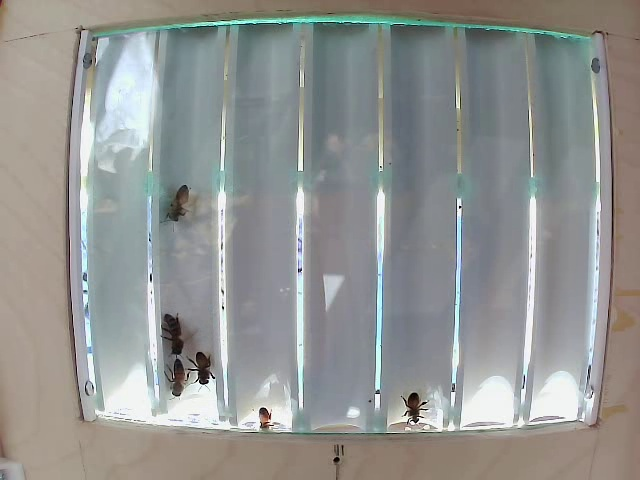bee: (162, 173, 213, 235), (155, 293, 185, 349), (393, 388, 433, 428), (166, 350, 186, 388), (191, 350, 206, 384)
